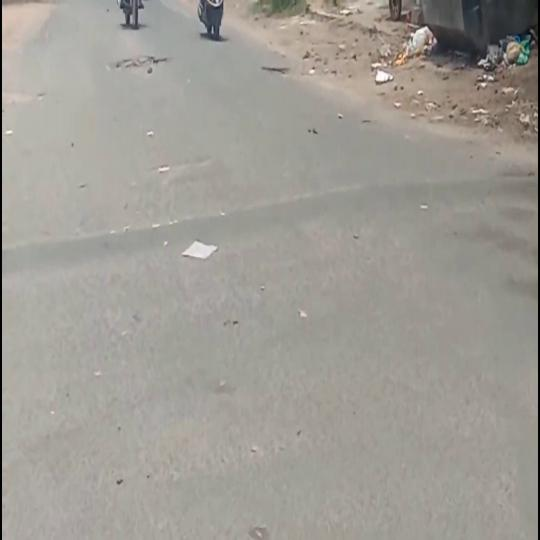Speed Bump: (1, 166, 538, 282)
